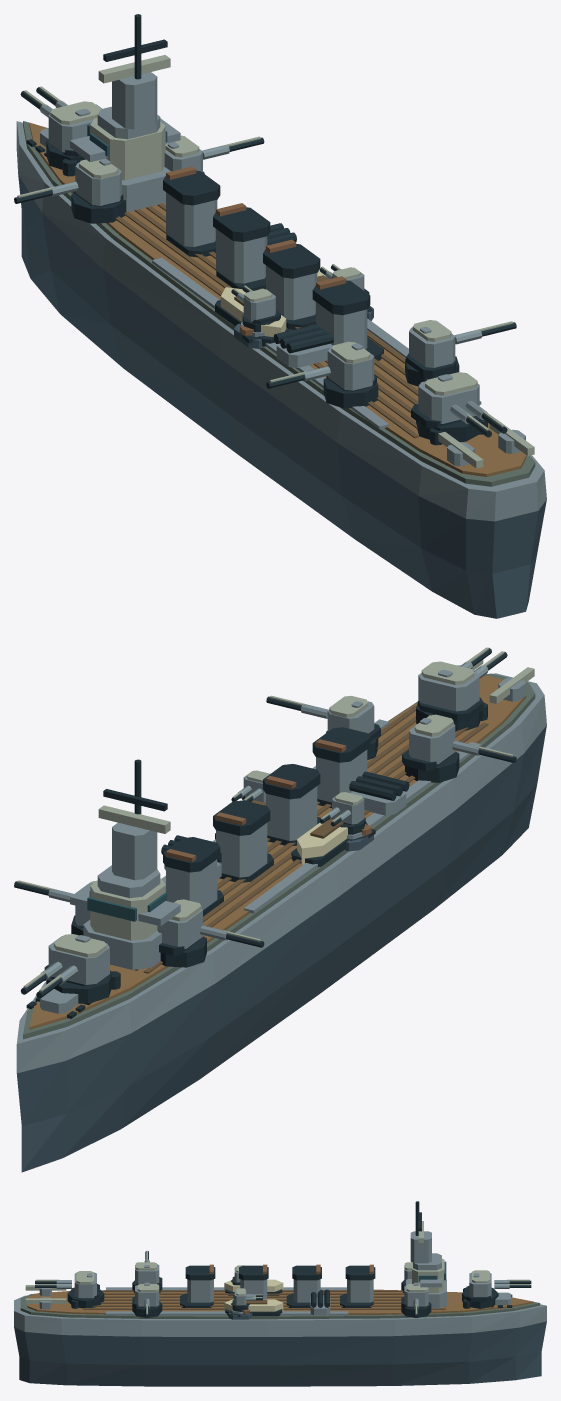
File: historic-omaha.glb
3 views of the same model, one above another, from view 1: azimuth 30°, elevation 25°; view 2: azimuth 150°, elevation 25°; view 3: azimuth 270°, elevation 25° (orthographic). The views are drawn at different scales.
Parts seen in each view (by area): view 1: historic-omaha-historic-omaha-geometry, historic-omaha-part_bridge.090-geometry, historic-omaha-turret_main_1.057-geometry, historic-omaha-historic_funnel_0.088-geometry, historic-omaha-historic_funnel_1.042-geometry, historic-omaha-historic_funnel_2.006-geometry, historic-omaha-turret_main_3.032-geometry, historic-omaha-turret_main_2.050-geometry, historic-omaha-historic_funnel_3.003-geometry, historic-omaha-turret_main_5.004-geometry, historic-omaha-turret_main_0.061-geometry, historic-omaha-torpedo_bank_0.024-geometry (+2 smaller); view 2: historic-omaha-historic-omaha-geometry, historic-omaha-part_bridge.090-geometry, historic-omaha-turret_main_1.057-geometry, historic-omaha-turret_main_0.061-geometry, historic-omaha-historic_funnel_1.042-geometry, historic-omaha-historic_funnel_2.006-geometry, historic-omaha-turret_main_3.032-geometry, historic-omaha-historic_funnel_0.088-geometry, historic-omaha-historic_funnel_3.003-geometry, historic-omaha-turret_main_2.050-geometry, historic-omaha-turret_main_5.004-geometry, historic-omaha-torpedo_bank_0.024-geometry (+3 smaller); view 3: historic-omaha-historic-omaha-geometry, historic-omaha-part_bridge.090-geometry, historic-omaha-turret_main_0.061-geometry, historic-omaha-turret_main_1.057-geometry, historic-omaha-historic_funnel_0.088-geometry, historic-omaha-historic_funnel_3.003-geometry, historic-omaha-historic_funnel_1.042-geometry, historic-omaha-turret_main_5.004-geometry, historic-omaha-turret_main_4.009-geometry, historic-omaha-historic_funnel_2.006-geometry, historic-omaha-turret_main_3.032-geometry, historic-omaha-torpedo_bank_1.021-geometry (+1 smaller).
Part boxes in pixels (bbox=[...]): historic-omaha-historic-omaha-geometry: bbox=[16, 121, 546, 618]; historic-omaha-part_bridge.090-geometry: bbox=[70, 14, 180, 211]; historic-omaha-turret_main_1.057-geometry: bbox=[411, 372, 507, 441]; historic-omaha-historic_funnel_0.088-geometry: bbox=[163, 166, 220, 257]; historic-omaha-historic_funnel_1.042-geometry: bbox=[213, 203, 270, 290]; historic-omaha-historic_funnel_2.006-geometry: bbox=[263, 239, 320, 329]; historic-omaha-turret_main_3.032-geometry: bbox=[266, 341, 378, 408]; historic-omaha-turret_main_2.050-geometry: bbox=[14, 158, 125, 223]; historic-omaha-historic_funnel_3.003-geometry: bbox=[312, 276, 383, 360]; historic-omaha-turret_main_5.004-geometry: bbox=[405, 320, 516, 386]; historic-omaha-turret_main_0.061-geometry: bbox=[20, 86, 102, 169]; historic-omaha-torpedo_bank_0.024-geometry: bbox=[273, 324, 333, 367]; historic-omaha-historic-omaha-geometry: bbox=[16, 655, 546, 1172]; historic-omaha-part_bridge.090-geometry: bbox=[70, 759, 180, 969]; historic-omaha-turret_main_1.057-geometry: bbox=[416, 647, 507, 731]; historic-omaha-turret_main_0.061-geometry: bbox=[21, 934, 112, 1003]; historic-omaha-historic_funnel_1.042-geometry: bbox=[213, 800, 273, 882]; historic-omaha-historic_funnel_2.006-geometry: bbox=[263, 764, 320, 845]; historic-omaha-turret_main_3.032-geometry: bbox=[402, 714, 516, 782]; historic-omaha-historic_funnel_0.088-geometry: bbox=[163, 837, 223, 916]; historic-omaha-historic_funnel_3.003-geometry: bbox=[312, 727, 370, 808]; historic-omaha-turret_main_2.050-geometry: bbox=[157, 899, 264, 967]; historic-omaha-turret_main_5.004-geometry: bbox=[266, 695, 380, 759]; historic-omaha-torpedo_bank_0.024-geometry: bbox=[349, 771, 409, 815]; historic-omaha-historic-omaha-geometry: bbox=[14, 1279, 546, 1386]; historic-omaha-part_bridge.090-geometry: bbox=[406, 1201, 446, 1308]; historic-omaha-turret_main_0.061-geometry: bbox=[462, 1270, 531, 1308]; historic-omaha-turret_main_1.057-geometry: bbox=[35, 1271, 104, 1308]; historic-omaha-historic_funnel_0.088-geometry: bbox=[340, 1264, 375, 1307]; historic-omaha-historic_funnel_3.003-geometry: bbox=[180, 1264, 215, 1307]; historic-omaha-historic_funnel_1.042-geometry: bbox=[286, 1264, 321, 1307]; historic-omaha-turret_main_5.004-geometry: bbox=[132, 1282, 162, 1317]; historic-omaha-turret_main_4.009-geometry: bbox=[401, 1282, 431, 1317]; historic-omaha-historic_funnel_2.006-geometry: bbox=[233, 1264, 268, 1299]; historic-omaha-turret_main_3.032-geometry: bbox=[132, 1250, 162, 1292]; historic-omaha-torpedo_bank_1.021-geometry: bbox=[310, 1289, 330, 1315].
Bounding box in the file's own units: 1.23 × 1.56 × 4.32.
